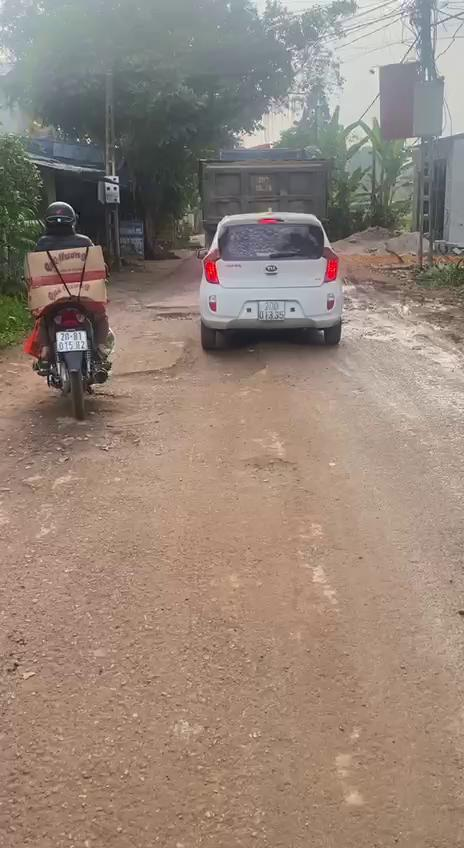pothole: (99, 348, 269, 388), (68, 426, 138, 462), (245, 449, 291, 485), (154, 306, 200, 326)
